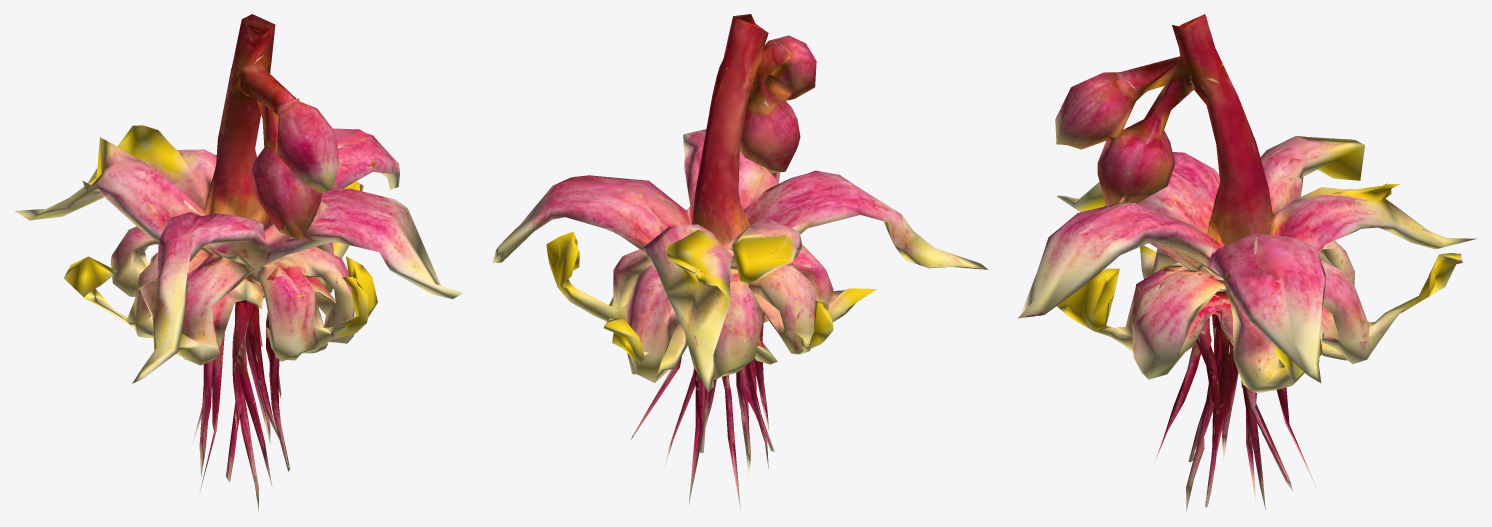
The model's file is tropical-blossom-macr.glb.
The picture shows the model from 3 angles, left to right: view 1: azimuth 30°, elevation 25°; view 2: azimuth 150°, elevation 25°; view 3: azimuth 270°, elevation 25°; orthographic projection. The views are drawn at different scales.
Bounding box in the file's own units: 1.58 × 1.9 × 1.58.
Materials: 1 (1 with a texture image).
